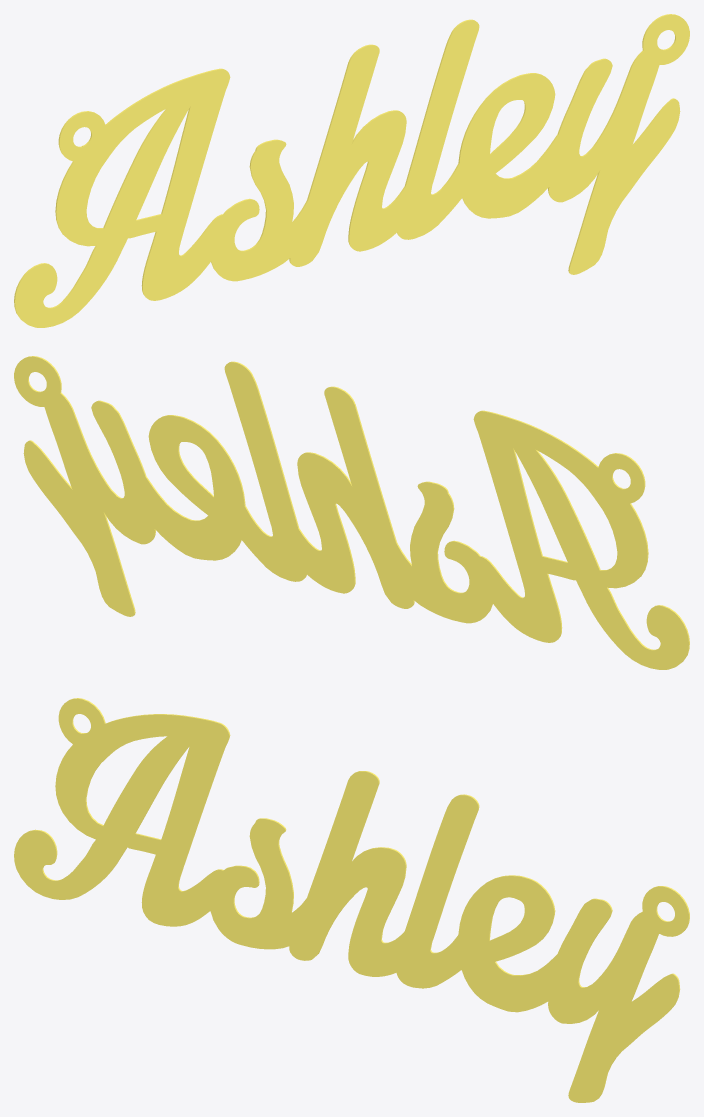
The picture shows the model from 3 angles, top to bottom: view 1: azimuth 30°, elevation 25°; view 2: azimuth 150°, elevation 25°; view 3: azimuth 330°, elevation 25°; orthographic projection.
Visible parts, largest first — view 1: my_mesh; view 2: my_mesh; view 3: my_mesh.
Part boxes in pixels (bbox=[...]): my_mesh: bbox=[14, 14, 689, 327]; my_mesh: bbox=[14, 356, 689, 669]; my_mesh: bbox=[14, 698, 689, 1102].
Size of the model in its own units: 20.14 by 8.33 by 0.051.
